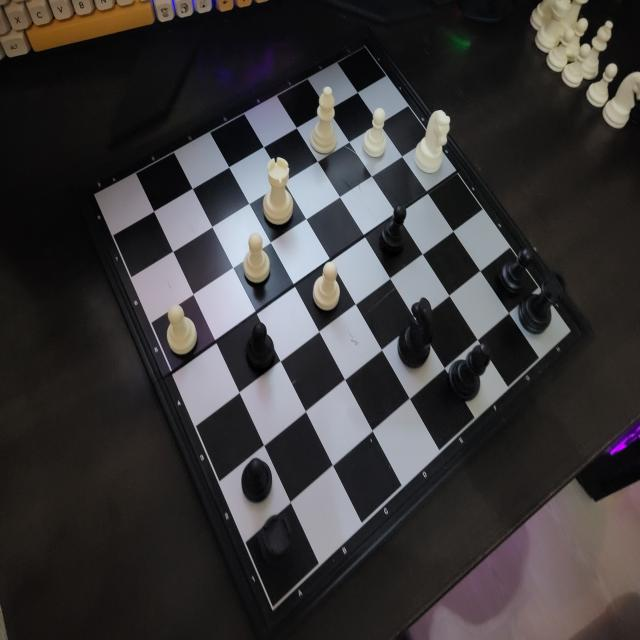black-bishop: (445, 340, 494, 403)
black-knight: (395, 296, 437, 372)
black-pawn: (493, 246, 535, 296), (240, 457, 274, 506), (244, 321, 276, 373), (378, 202, 407, 256)
black-rook: (517, 268, 568, 334), (255, 512, 295, 565)
chess-board: (88, 39, 582, 622)
white-bishop: (310, 85, 338, 156)
white-knight: (414, 109, 451, 175), (606, 68, 640, 134)
white-pawn: (164, 303, 198, 359), (586, 62, 620, 111), (312, 260, 342, 315), (243, 231, 271, 287), (545, 27, 575, 74), (363, 107, 387, 159), (562, 45, 592, 86)
white-rook: (262, 156, 294, 228)
